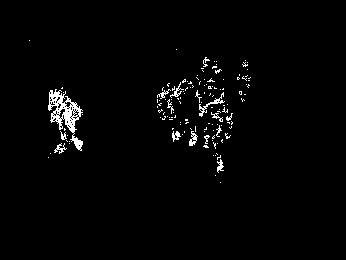person: (201, 91, 235, 177), (48, 87, 85, 156), (176, 76, 202, 147), (156, 82, 180, 144)
